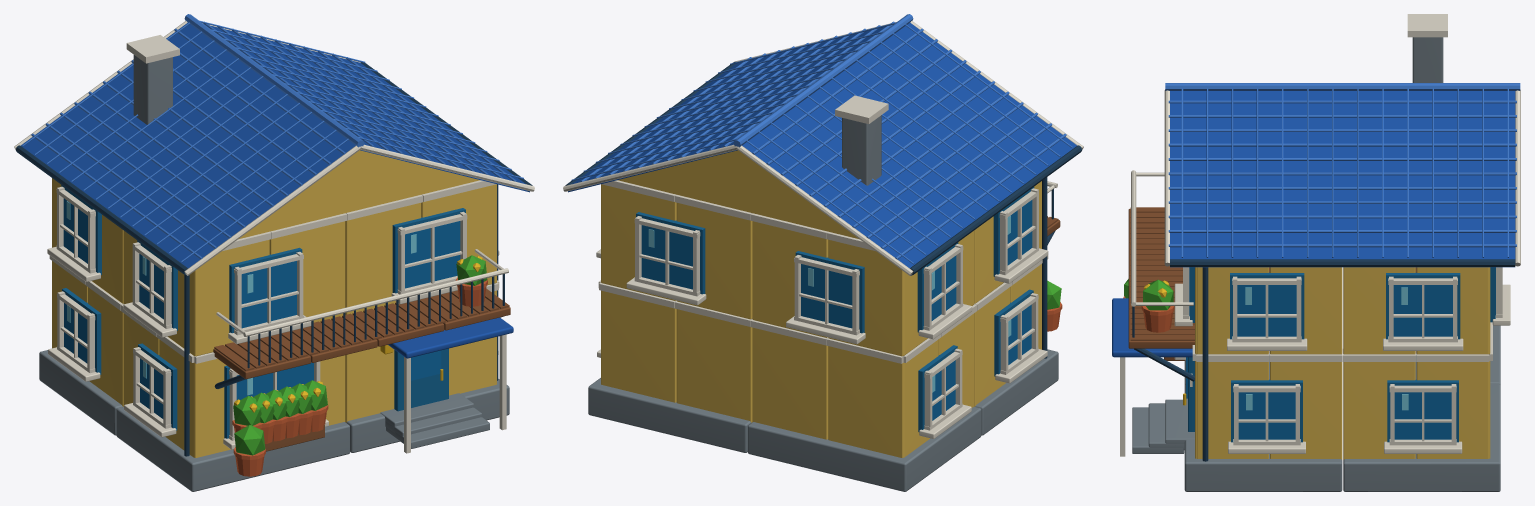
Rendered from house.glb.
3 views of the same model, side by side, from view 1: azimuth 30°, elevation 25°; view 2: azimuth 150°, elevation 25°; view 3: azimuth 270°, elevation 25° (orthographic). The views are drawn at different scales.
Visible parts, largest first — view 1: House_0_roof_0_1, House_0_roof_0_0, House_0_roof_1_1, House_0_detail_0_front_2, House_0_roof_1_0, House_0_foundation_2, House_0_detail_1_front_0, House_0_detail_0_front_0, House_0_detail_1_front_3, House_0_wall_1_front_2, House_0_detail_0_left_3, House_0_wall_1_front_1 (+28 smaller); view 2: House_0_roof_0_0, House_0_roof_0_1, House_0_roof_1_0, House_0_foundation_0, House_0_roof_1_1, House_0_wall_0_back_2, House_0_wall_0_back_1, House_0_wall_0_back_0, House_0_wall_0_back_3, House_0_detail_1_back_3, House_0_detail_1_back_0, House_0_foundation_1 (+25 smaller); view 3: House_0_roof_1_0, House_0_roof_1_1, House_0_detail_0_right_3, House_0_foundation_1, House_0_detail_0_right_0, House_0_detail_1_right_3, House_0_detail_1_right_0, House_0_foundation_3, House_0_wall_0_right_1, House_0_detail_0_front_2, House_0_wall_0_right_2, House_0_wall_1_right_1 (+17 smaller).
Boxes of the visible parts, bbox=[...] form: House_0_roof_0_1: bbox=[99, 84, 360, 275]; House_0_roof_0_0: bbox=[14, 21, 271, 212]; House_0_roof_1_1: bbox=[238, 77, 534, 239]; House_0_detail_0_front_2: bbox=[380, 317, 513, 453]; House_0_roof_1_0: bbox=[184, 14, 447, 123]; House_0_foundation_2: bbox=[116, 406, 349, 491]; House_0_detail_1_front_0: bbox=[222, 231, 311, 344]; House_0_detail_0_front_0: bbox=[194, 352, 328, 476]; House_0_detail_1_front_3: bbox=[391, 180, 496, 304]; House_0_wall_1_front_2: bbox=[345, 203, 421, 314]; House_0_detail_0_left_3: bbox=[124, 275, 194, 456]; House_0_wall_1_front_1: bbox=[269, 221, 345, 322]; House_0_roof_0_0: bbox=[737, 84, 998, 275]; House_0_roof_0_1: bbox=[826, 21, 1083, 212]; House_0_roof_1_0: bbox=[563, 77, 859, 239]; House_0_foundation_0: bbox=[748, 406, 981, 491]; House_0_roof_1_1: bbox=[650, 14, 913, 123]; House_0_wall_0_back_2: bbox=[676, 309, 752, 422]; House_0_wall_0_back_1: bbox=[752, 327, 828, 439]; House_0_wall_0_back_0: bbox=[828, 346, 903, 457]; House_0_wall_0_back_3: bbox=[601, 290, 676, 402]; House_0_detail_1_back_3: bbox=[601, 180, 706, 305]; House_0_detail_1_back_0: bbox=[786, 231, 875, 344]; House_0_foundation_1: bbox=[588, 378, 751, 452]; House_0_roof_1_0: bbox=[1342, 83, 1520, 267]; House_0_roof_1_1: bbox=[1164, 83, 1342, 267]; House_0_detail_0_right_3: bbox=[1196, 267, 1305, 461]; House_0_foundation_1: bbox=[1343, 384, 1500, 491]; House_0_detail_0_right_0: bbox=[1384, 351, 1489, 453]; House_0_detail_1_right_3: bbox=[1227, 272, 1307, 350]; House_0_detail_1_right_0: bbox=[1383, 272, 1463, 350]; House_0_foundation_3: bbox=[1184, 384, 1342, 491]; House_0_wall_0_right_1: bbox=[1343, 362, 1415, 459]; House_0_detail_0_front_2: bbox=[1112, 298, 1194, 453]; House_0_wall_0_right_2: bbox=[1270, 362, 1342, 459]; House_0_wall_1_right_1: bbox=[1343, 267, 1415, 354].
Bounding box in the file's own units: 8.77 × 8.18 × 8.64.
